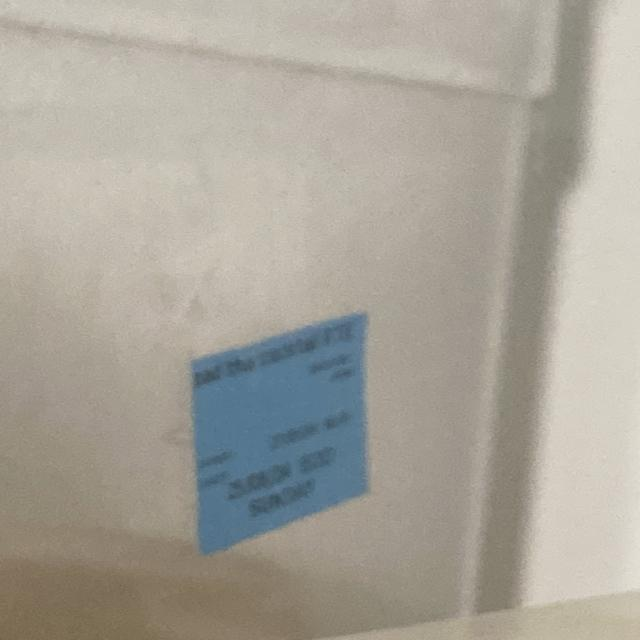product-labels: (190, 312, 372, 556)
